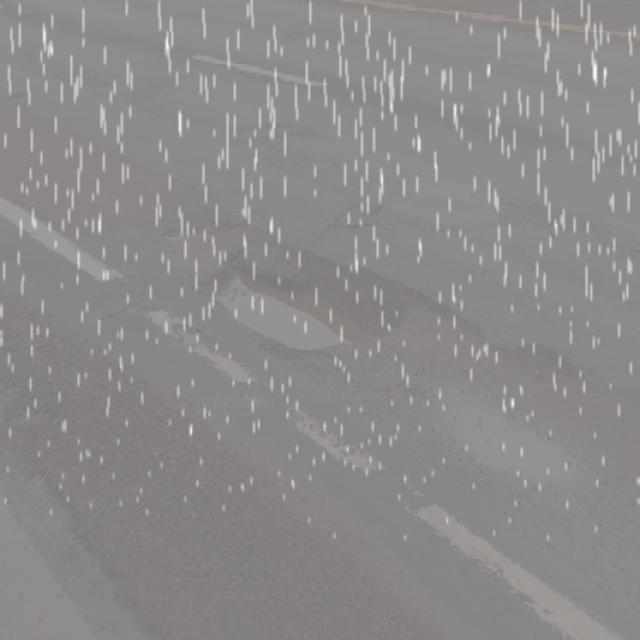Pothole: (201, 237, 367, 362)
